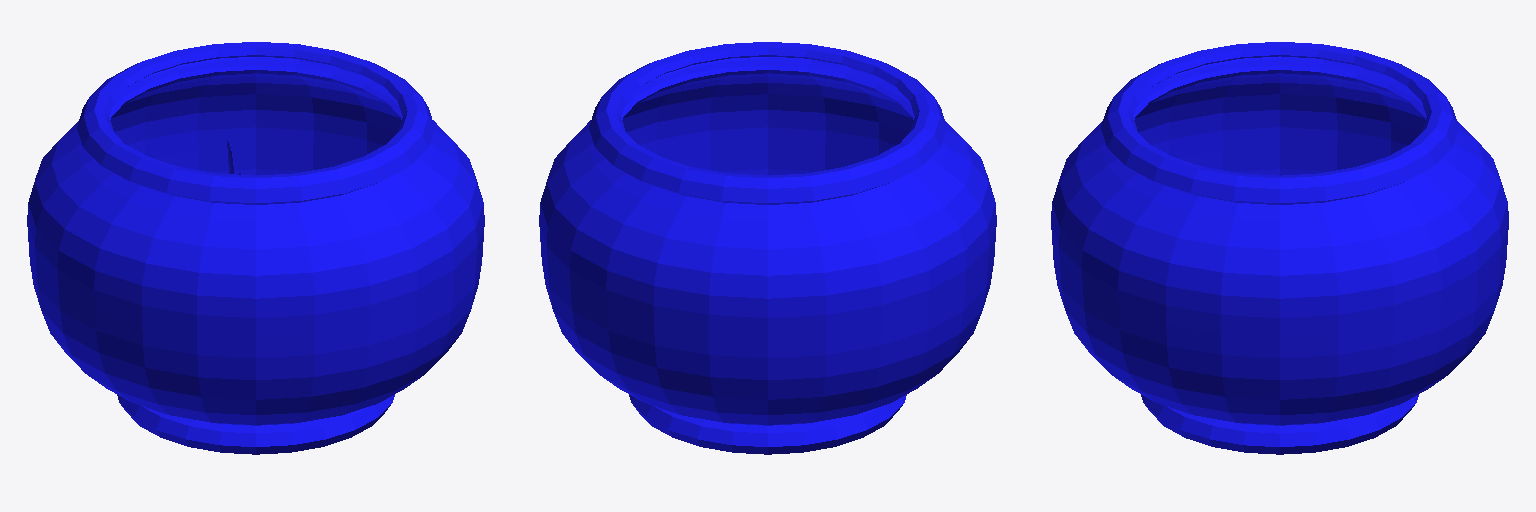
File: FishForSketchfab.obj
The picture shows the model from 3 angles: view 1: azimuth 30°, elevation 25°; view 2: azimuth 150°, elevation 25°; view 3: azimuth 270°, elevation 25°; orthographic projection.
Parts seen in each view (by area): view 1: FishBowl; view 2: FishBowl; view 3: FishBowl.
Part boxes in pixels (left/top/right/bottom): FishBowl: left=27, top=42, right=484, bottom=454; FishBowl: left=539, top=42, right=996, bottom=454; FishBowl: left=1051, top=42, right=1508, bottom=454.
Size of the model in its own units: 30.65 by 21.54 by 30.65.